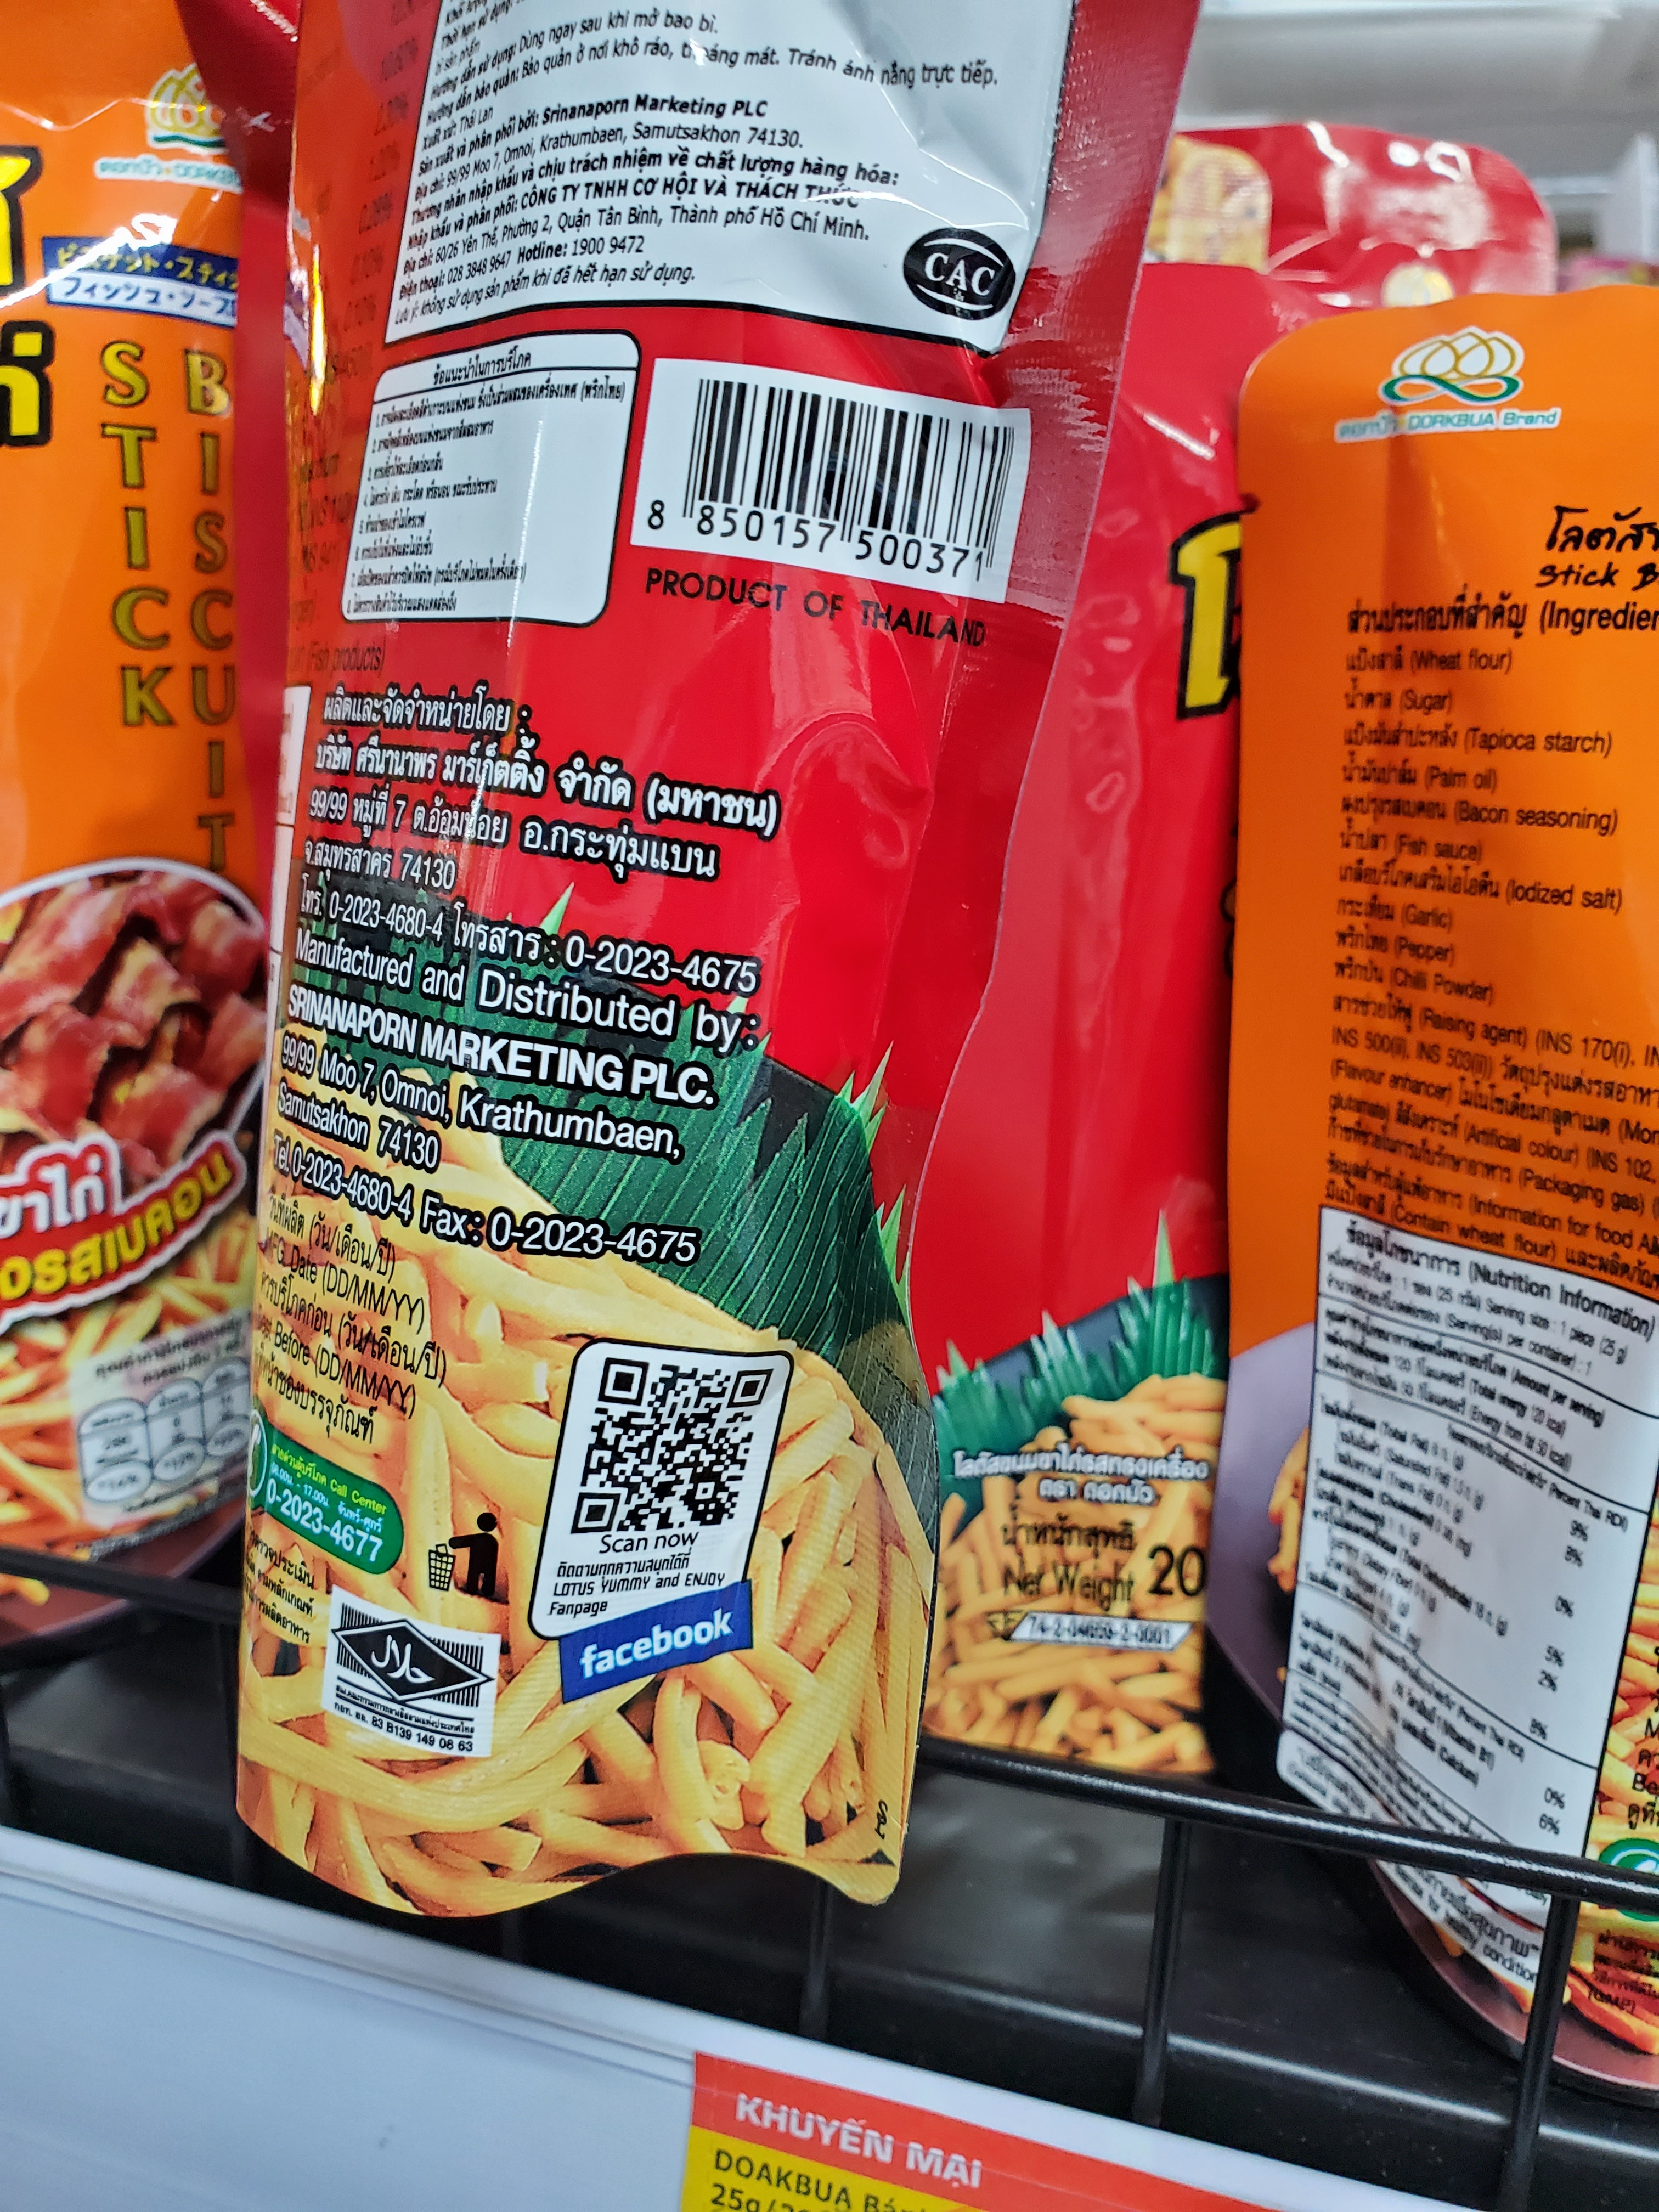barcode: (634, 364, 1051, 618)
qr code: (552, 1341, 789, 1552)
